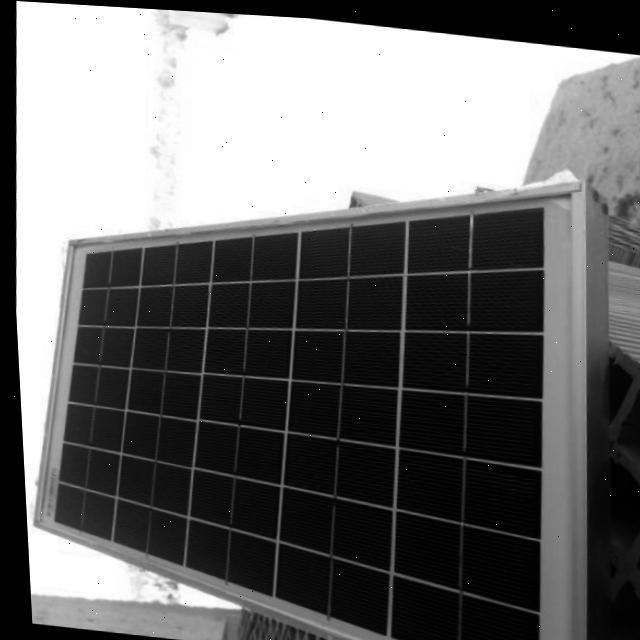Normal Solar Panel: (9, 120, 602, 640)
